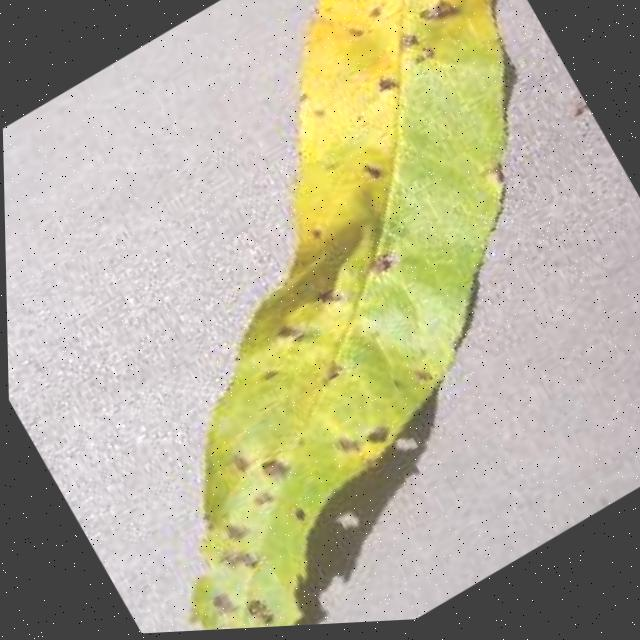Bacterial_spot: (346, 0, 496, 112), (235, 277, 374, 392), (308, 0, 506, 48), (221, 423, 310, 520), (322, 389, 412, 472), (350, 215, 424, 292), (291, 342, 360, 410), (207, 528, 273, 593), (351, 127, 408, 191), (236, 573, 296, 628), (197, 577, 250, 630), (274, 488, 323, 541)
